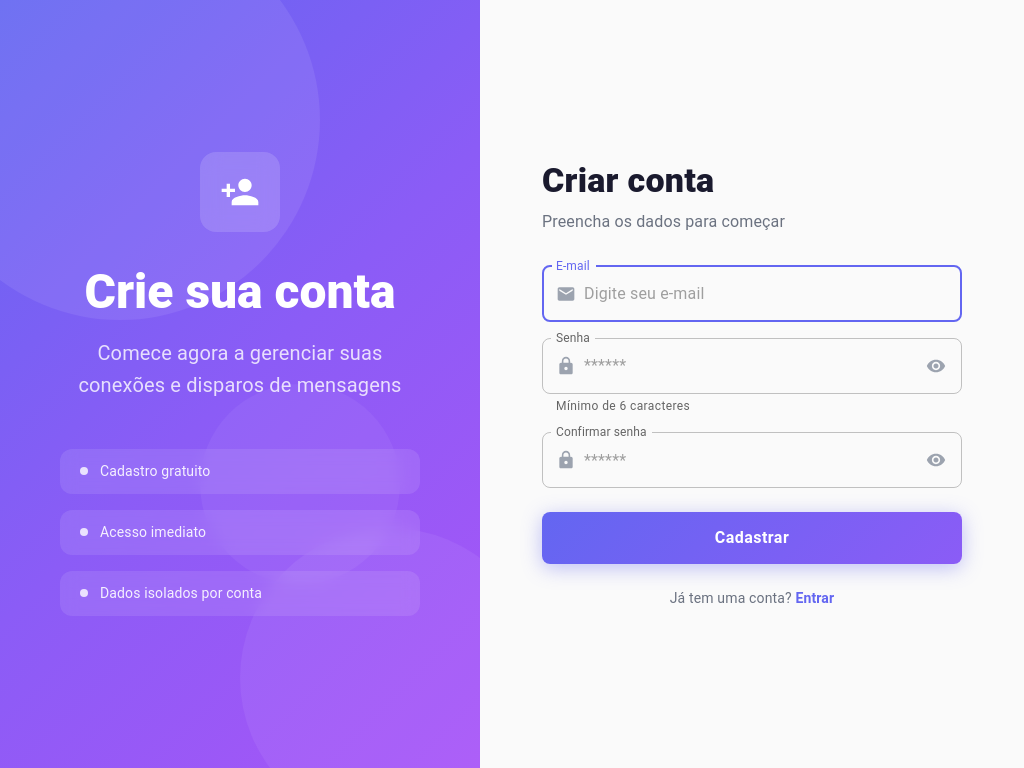
RegisterPage › shows error when password is shorter than 6 characters
The image size is (1024, 768).
Type "user@test.com" into the field labelled "E-mail" at (773, 294), box top-left (584, 266), bottom-right (962, 322)
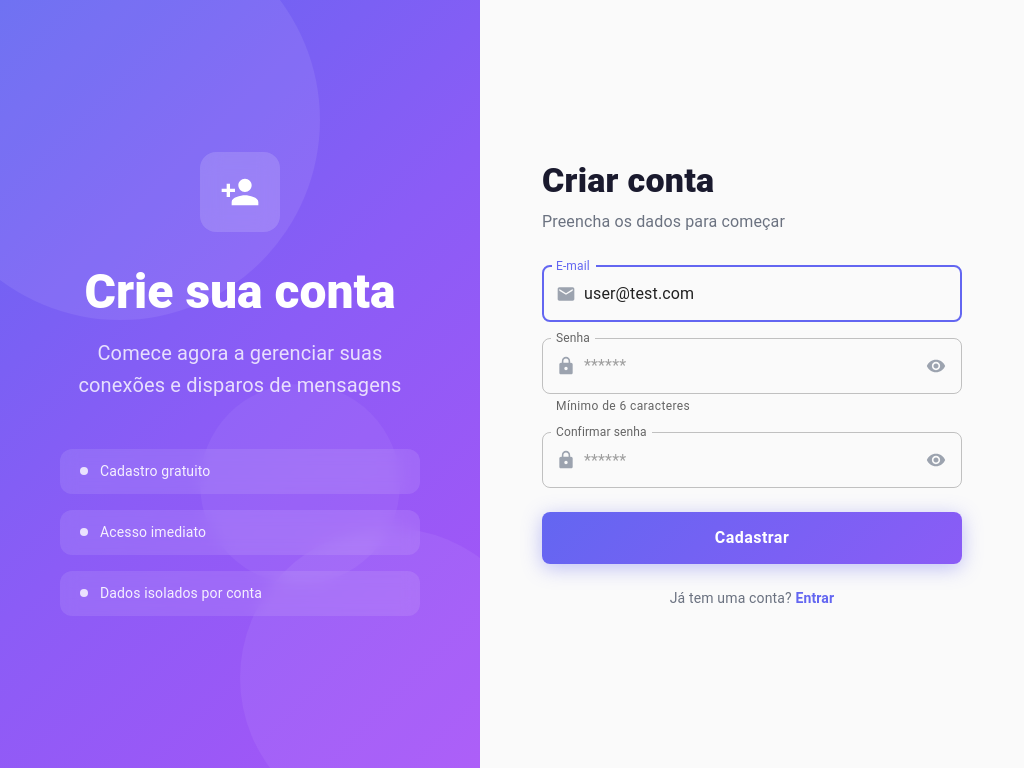
Type "123" into the password field labelled "Senha" at (748, 366), box top-left (584, 338), bottom-right (913, 394)
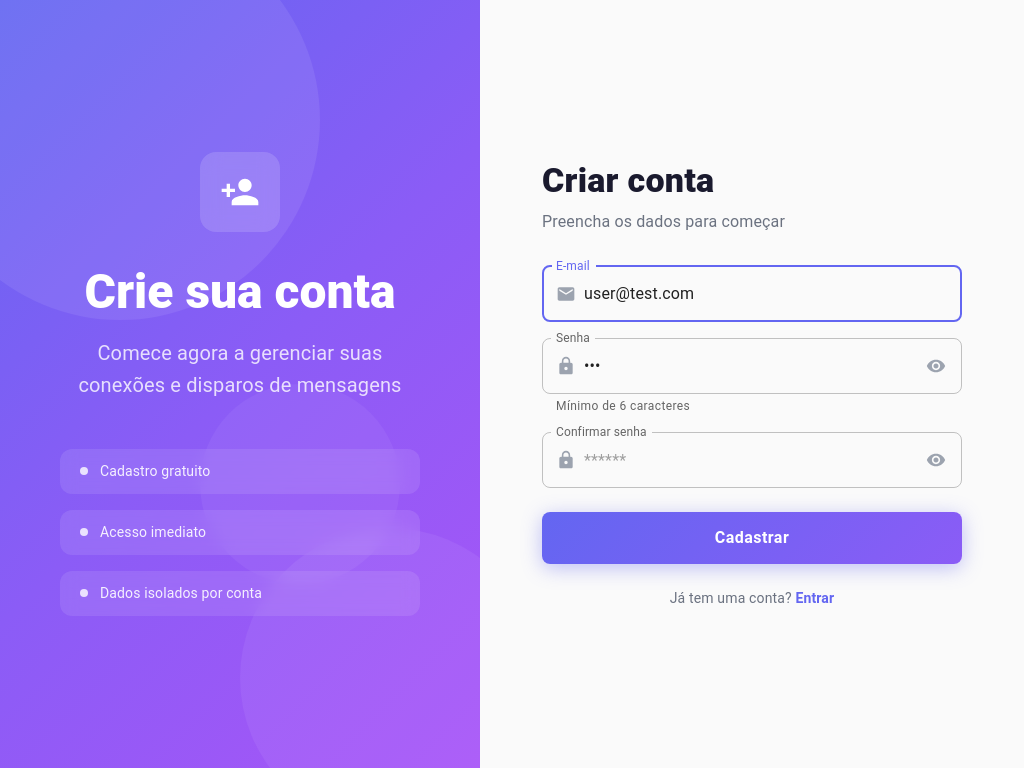
Type "123" into the password field labelled "Confirmar senha" at (748, 460), box top-left (584, 432), bottom-right (913, 488)
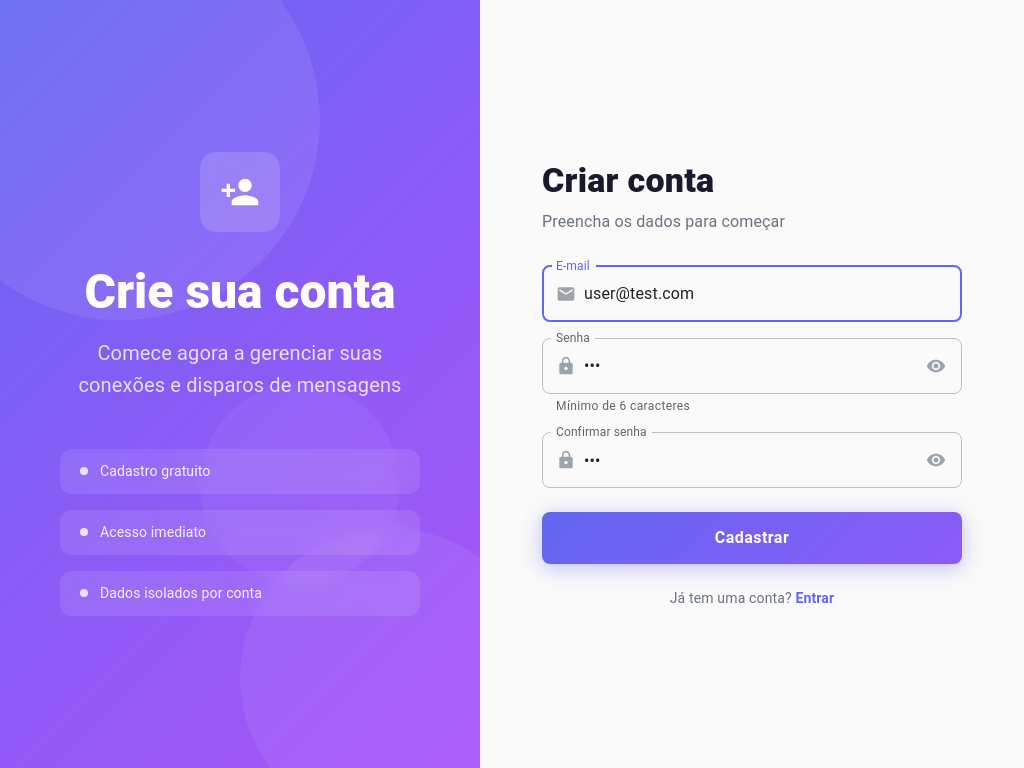
Click the button "Cadastrar" at (752, 538), box top-left (542, 512), bottom-right (962, 564)
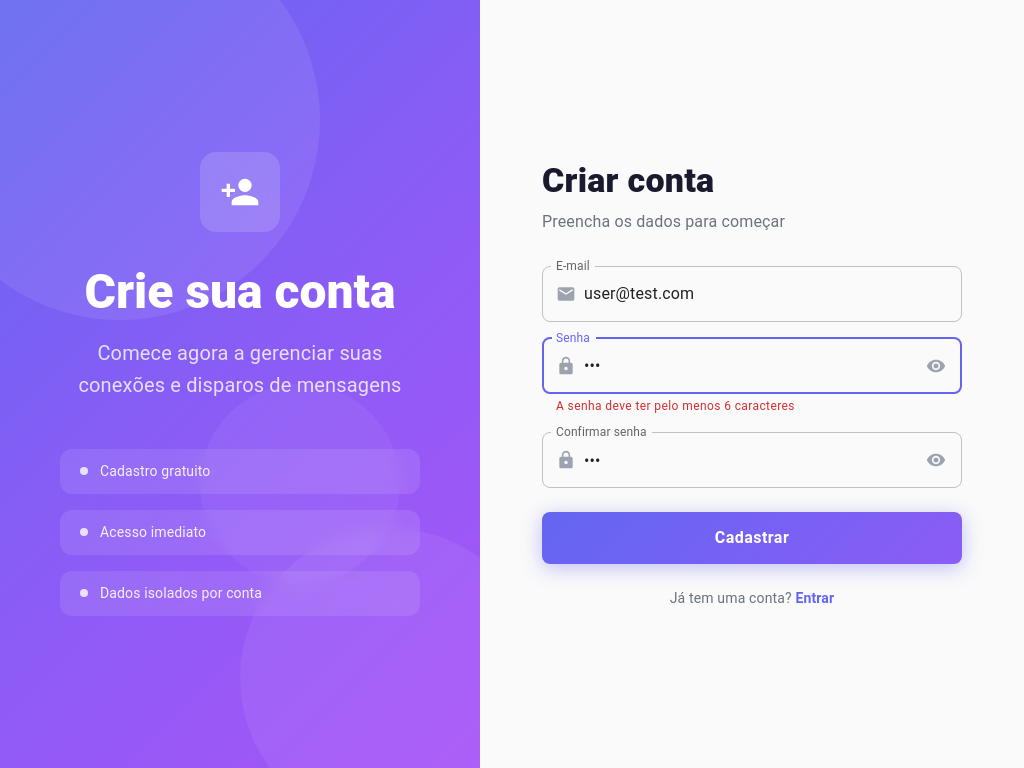
Expected: the text "A senha deve ter pelo menos 6 caracteres" is shown, top-left (556, 398), bottom-right (795, 412)
